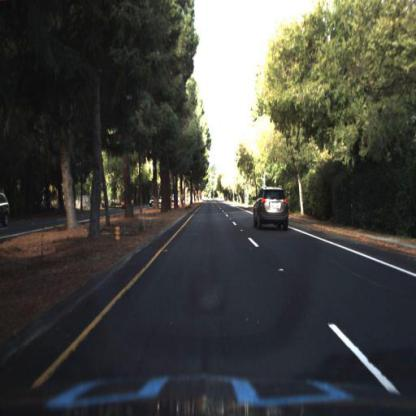car: (254, 187, 290, 232), (1, 191, 12, 225), (148, 193, 156, 212)
